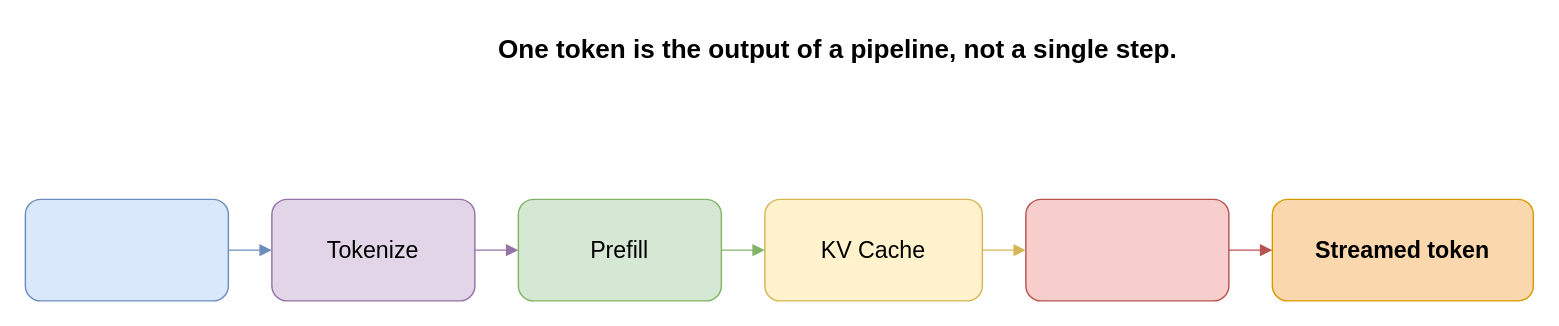
Some shapes in this 1559 by 326 pixel diagram are drawn without their labels. Here are the shapes that lost their labels. From the top down, the centre of each, then its label:
At point (126, 249): "Prompt".
At point (1126, 249): "Decode".
